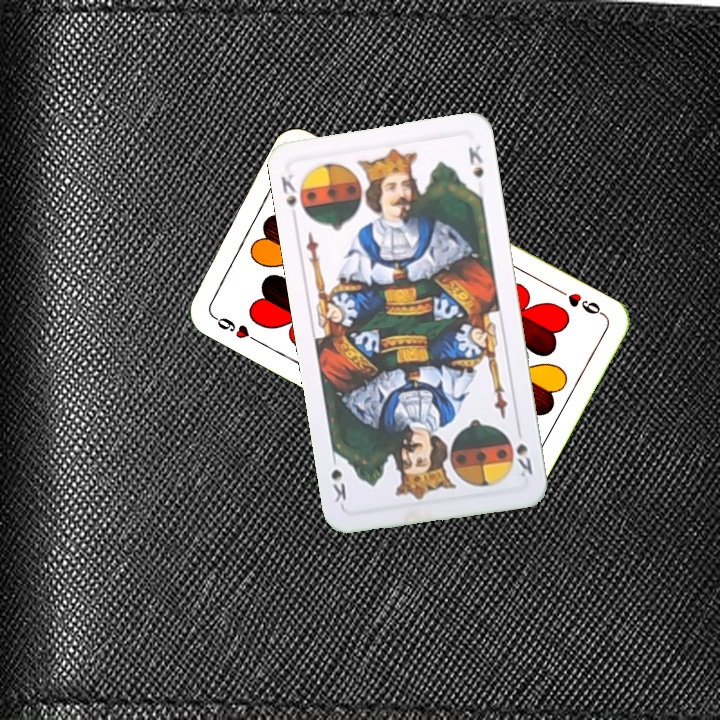H9: (552, 284, 607, 319), (207, 311, 262, 346)
SK: (512, 422, 535, 480), (276, 170, 300, 209)
